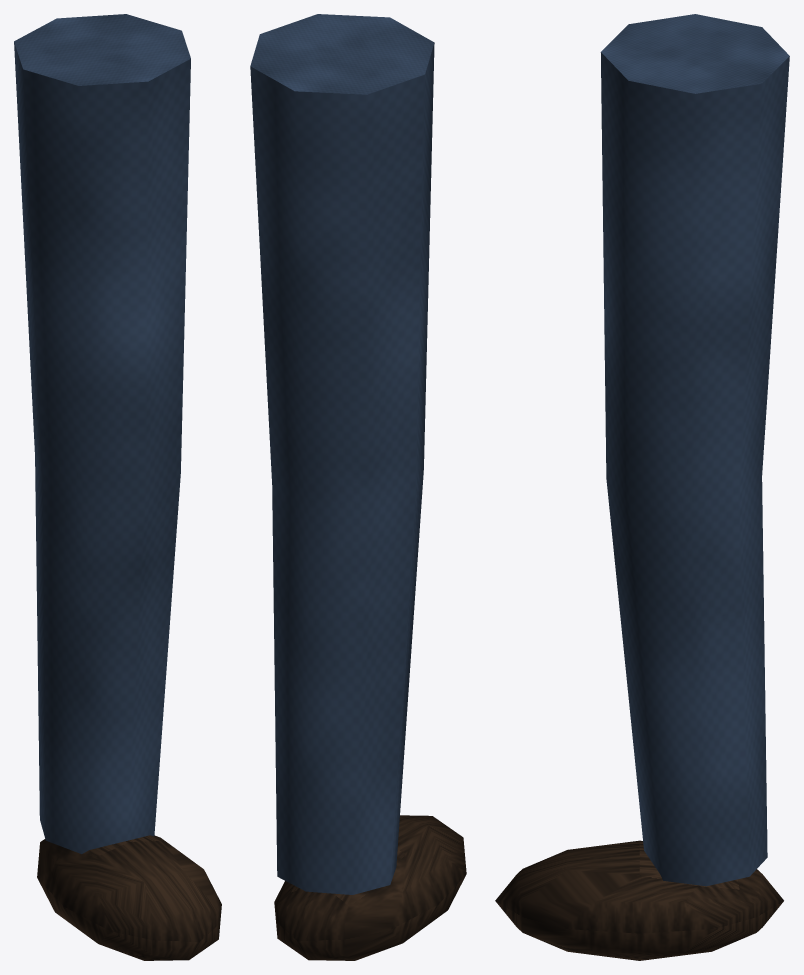
File: survivor_leg.glb
3 views of the same model, side by side, from view 1: azimuth 30°, elevation 25°; view 2: azimuth 150°, elevation 25°; view 3: azimuth 270°, elevation 25° (orthographic). The views are drawn at different scales.
Parts seen in each view (by area): view 1: survivor_leg; view 2: survivor_leg; view 3: survivor_leg.
Boxes of the visible parts, x1=… form: survivor_leg: x1=14, y1=14, x2=221, y2=960; survivor_leg: x1=250, y1=14, x2=466, y2=960; survivor_leg: x1=495, y1=14, x2=789, y2=960.
Bounding box in the file's own units: 0.17 × 0.892 × 0.265.
Materials: 2 (2 with a texture image).
